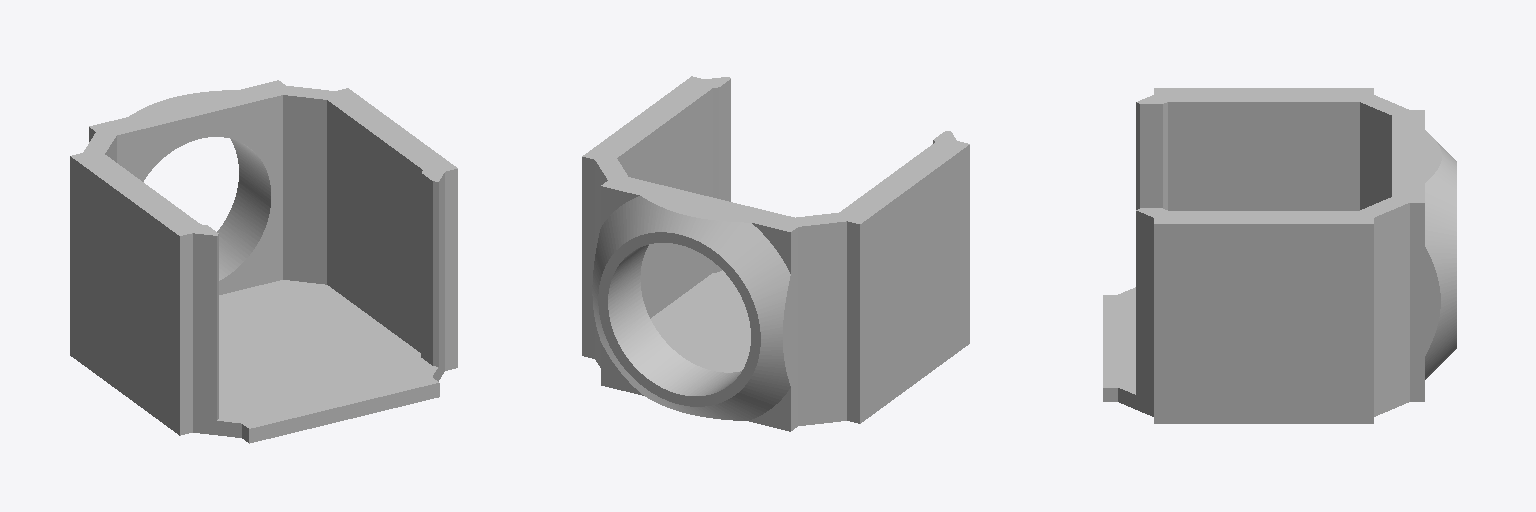
File: V5_Camera Mount Side.obj
3 renders of one model, left to right at view 1: azimuth 30°, elevation 25°; view 2: azimuth 150°, elevation 25°; view 3: azimuth 270°, elevation 25°, orthographic.
Visible parts, largest first — view 1: Solid1:31; view 2: Solid1:31; view 3: Solid1:31.
Boxes of the visible parts, box(x1,y1,x2,y2) form: Solid1:31: box(70, 80, 457, 443); Solid1:31: box(582, 76, 969, 431); Solid1:31: box(1103, 88, 1456, 423).
Size of the model in its own units: 49.65 by 34 by 54.65.